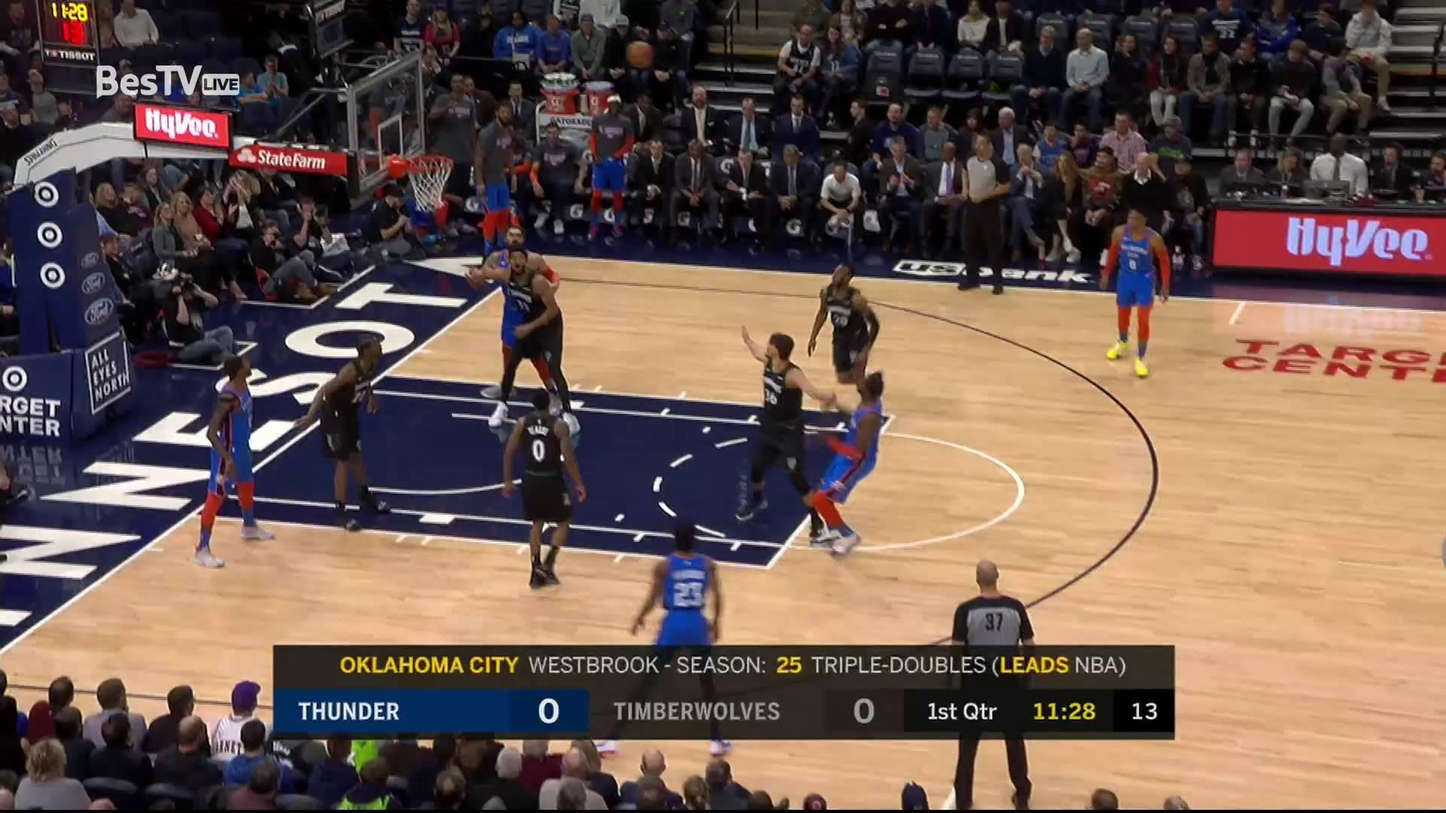basketball: (625, 39, 653, 69)
